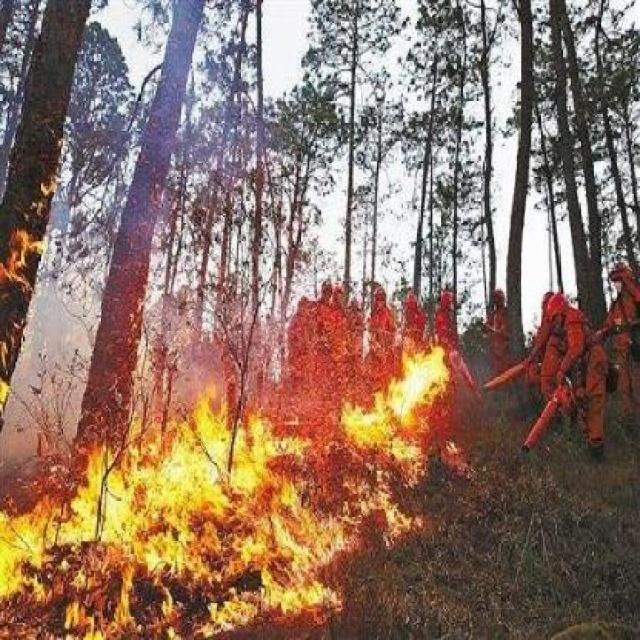Fire: (1, 324, 461, 640), (1, 175, 62, 294)
Smoke: (2, 198, 218, 498)
